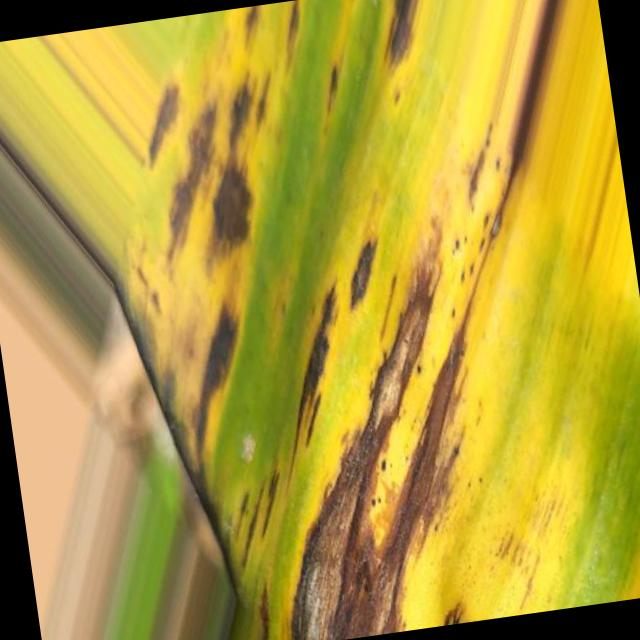Banana_Yellow_Sigatoka: (253, 268, 522, 640), (77, 12, 306, 432)
